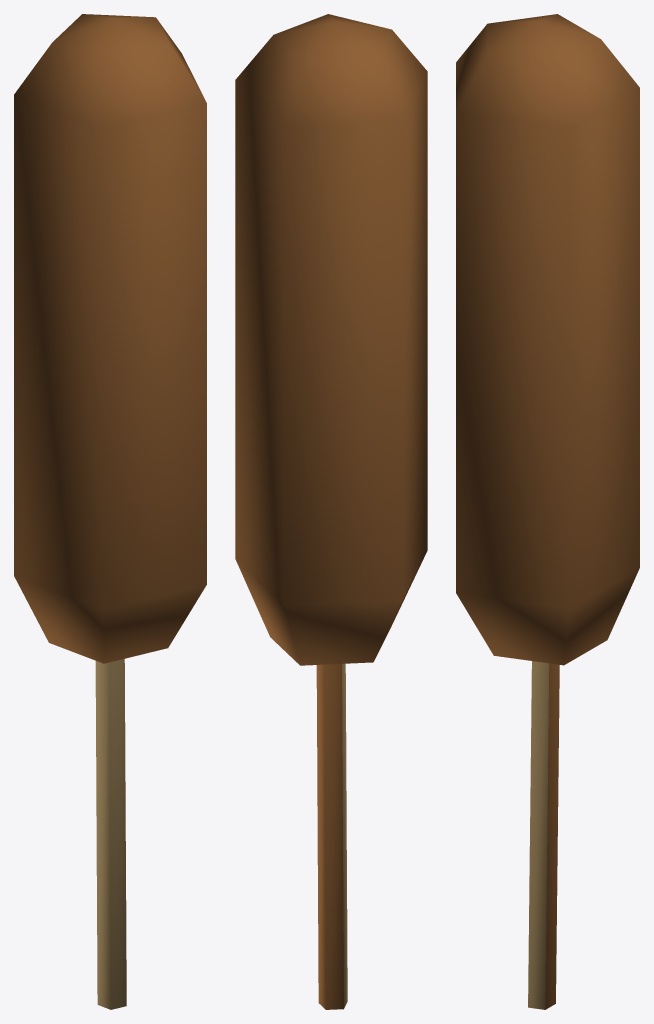
File: Corndog.glb
3 renders of one model, left to right at view 1: azimuth 30°, elevation 25°; view 2: azimuth 150°, elevation 25°; view 3: azimuth 270°, elevation 25°, orthographic.
Visible parts, largest first — view 1: Corndog; view 2: Corndog; view 3: Corndog.
Part boxes in pixels (x1=…): Corndog: x1=14, y1=14, x2=206, y2=1009; Corndog: x1=235, y1=14, x2=427, y2=1009; Corndog: x1=456, y1=14, x2=639, y2=1009.
Size of the model in its own units: 0.4828 by 2.71 by 0.4592.
